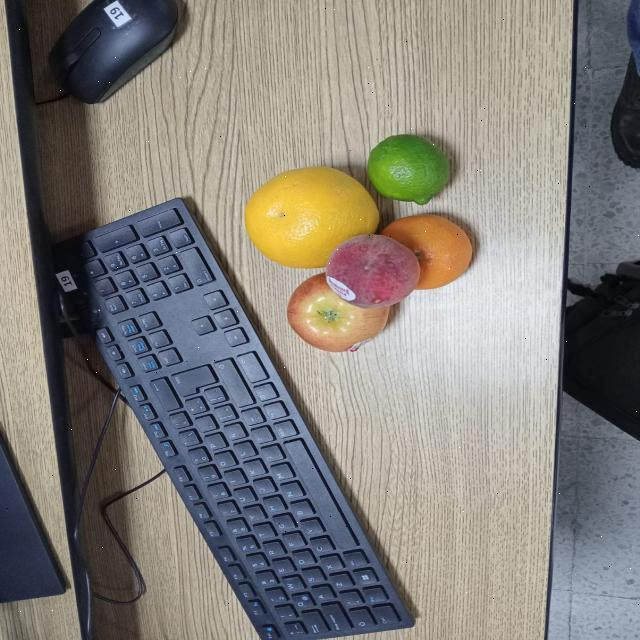Apel Gala: (279, 264, 399, 355)
Jeruk: (237, 162, 386, 273)
Jeruk Mandarin: (372, 211, 485, 294)
Lemon: (360, 128, 457, 207)
Persik: (320, 229, 426, 313)
